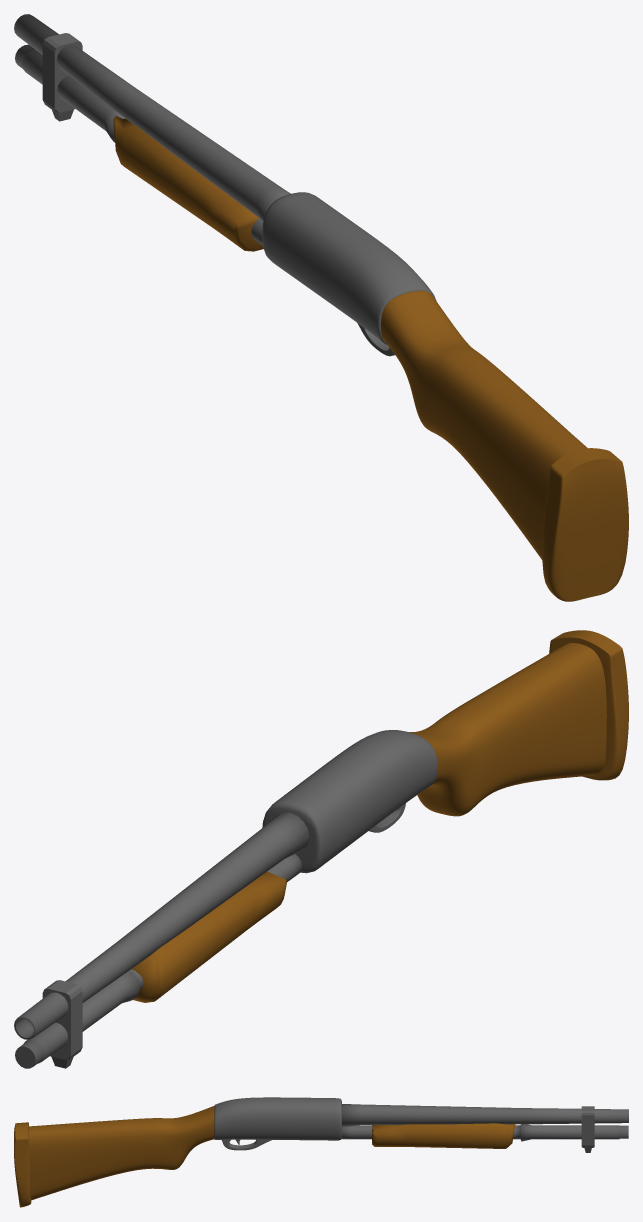
The model's file is Gun.fbx.
3 renders of one model, top to bottom at view 1: azimuth 30°, elevation 25°; view 2: azimuth 150°, elevation 25°; view 3: azimuth 270°, elevation 25°, orthographic. The views are drawn at different scales.
Parts seen in each view (by area): view 1: Cube.002; view 2: Cube.002; view 3: Cube.002.
Boxes of the visible parts, left/top/right/bottom form: Cube.002: left=14, top=14, right=628, bottom=601; Cube.002: left=14, top=630, right=628, bottom=1068; Cube.002: left=14, top=1097, right=628, bottom=1207.
Bounding box in the file's own units: 20.9 × 48.71 × 265.
